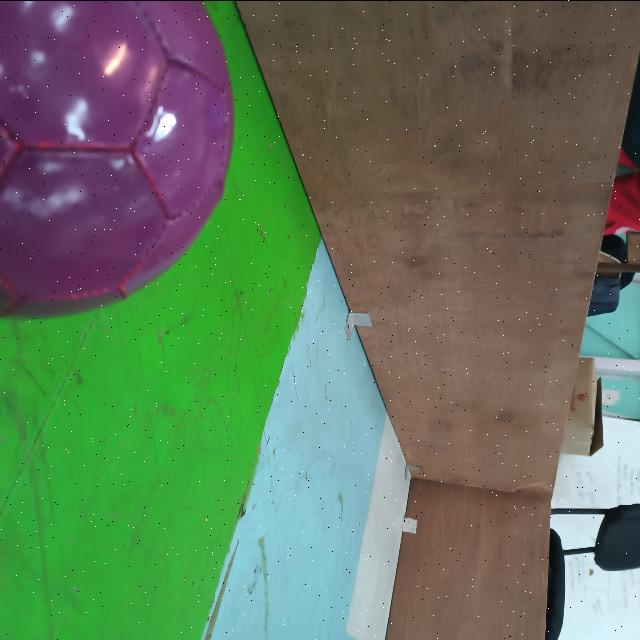P: (0, 1, 242, 322)
